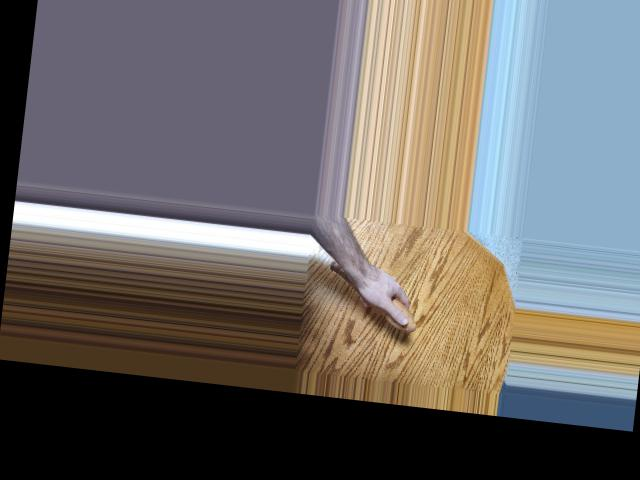sweet_potato: (321, 256, 424, 332)
